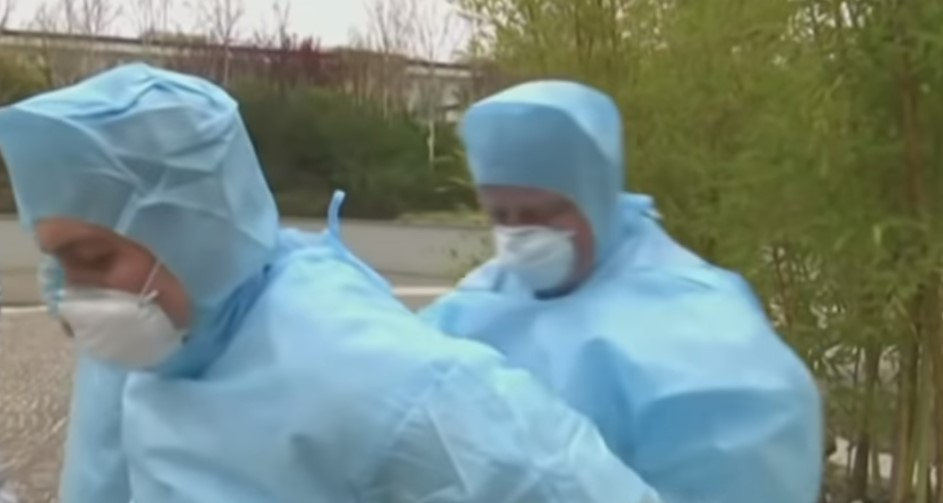face_with_mask: (4, 67, 278, 382), (463, 82, 622, 299)
